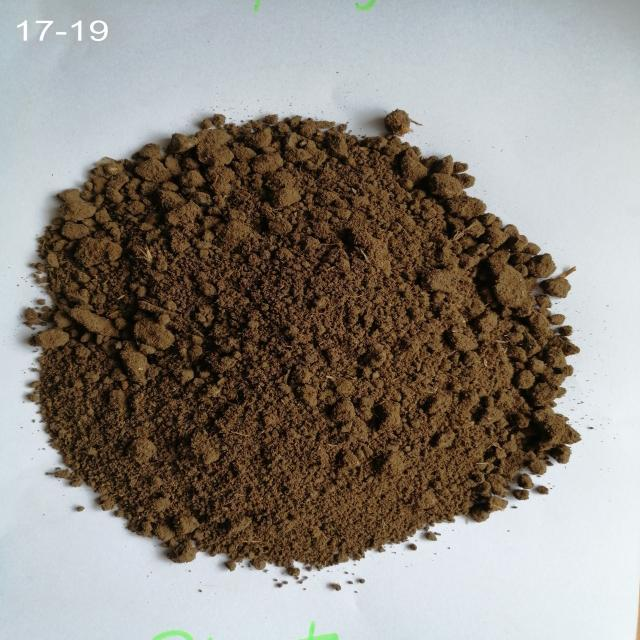soil: (114, 170, 480, 500)
